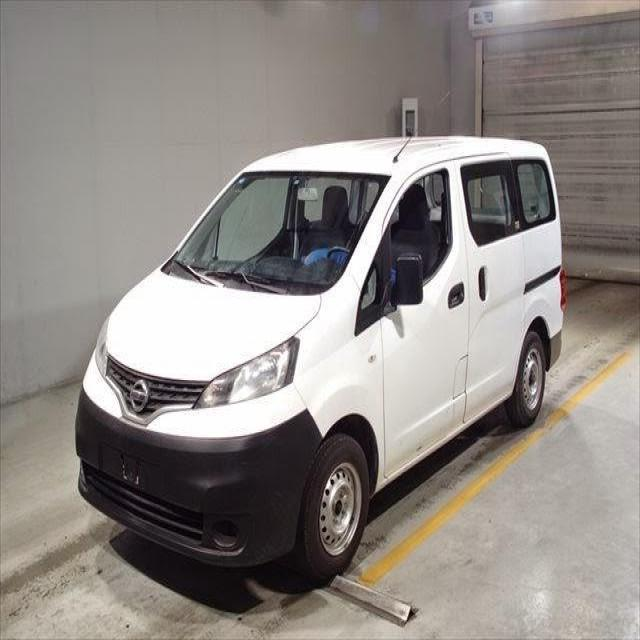Van: (78, 136, 566, 576)
